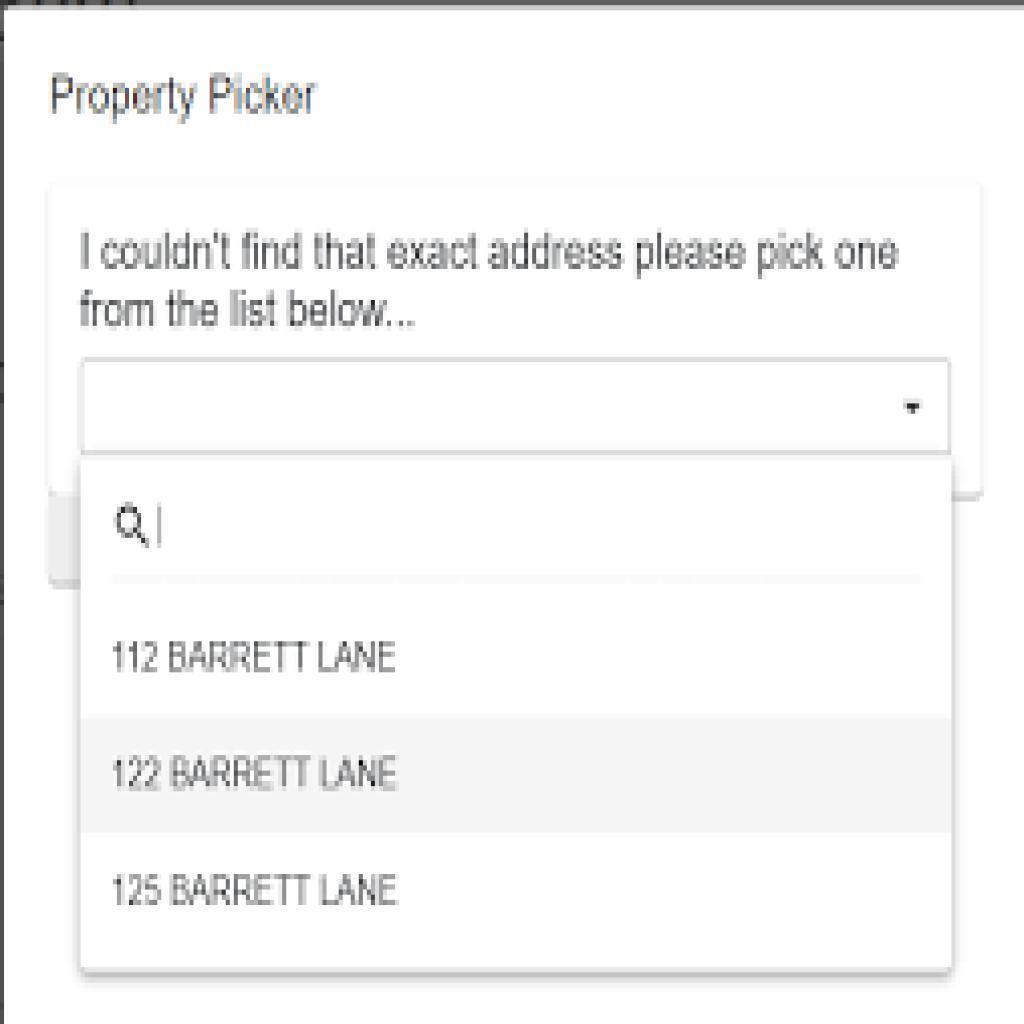dropdown: (85, 361, 950, 452)
input: (112, 484, 917, 582)
label: (45, 64, 323, 135)
